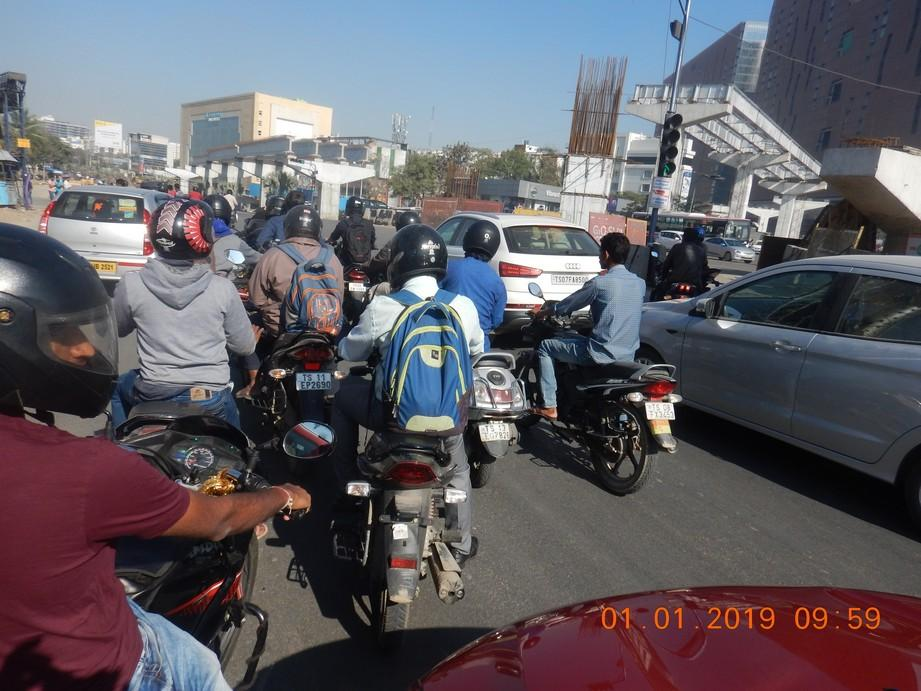plate: (292, 370, 333, 393), (645, 400, 678, 422), (478, 422, 514, 441)
